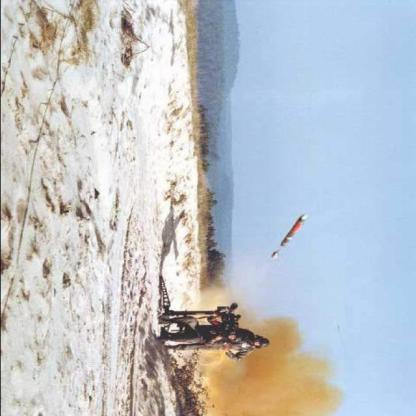MIL_TBM: (278, 210, 309, 248)
